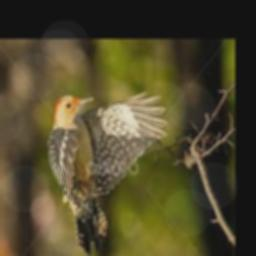Woodpecker: (47, 92, 167, 254)
